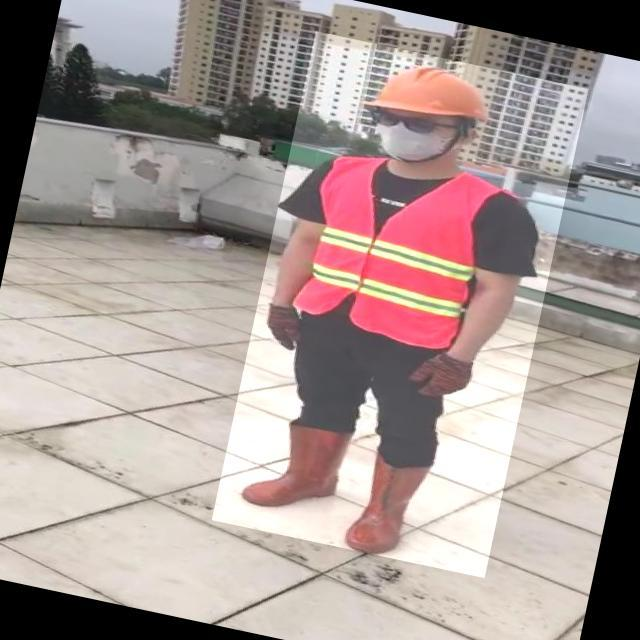Gloves: (407, 345, 476, 403), (259, 303, 313, 357)
Helmet: (361, 50, 498, 132)
Human: (212, 31, 590, 579)
Safety Boot: (244, 415, 354, 522), (346, 453, 429, 562)
Safety Vest: (286, 146, 500, 354)
